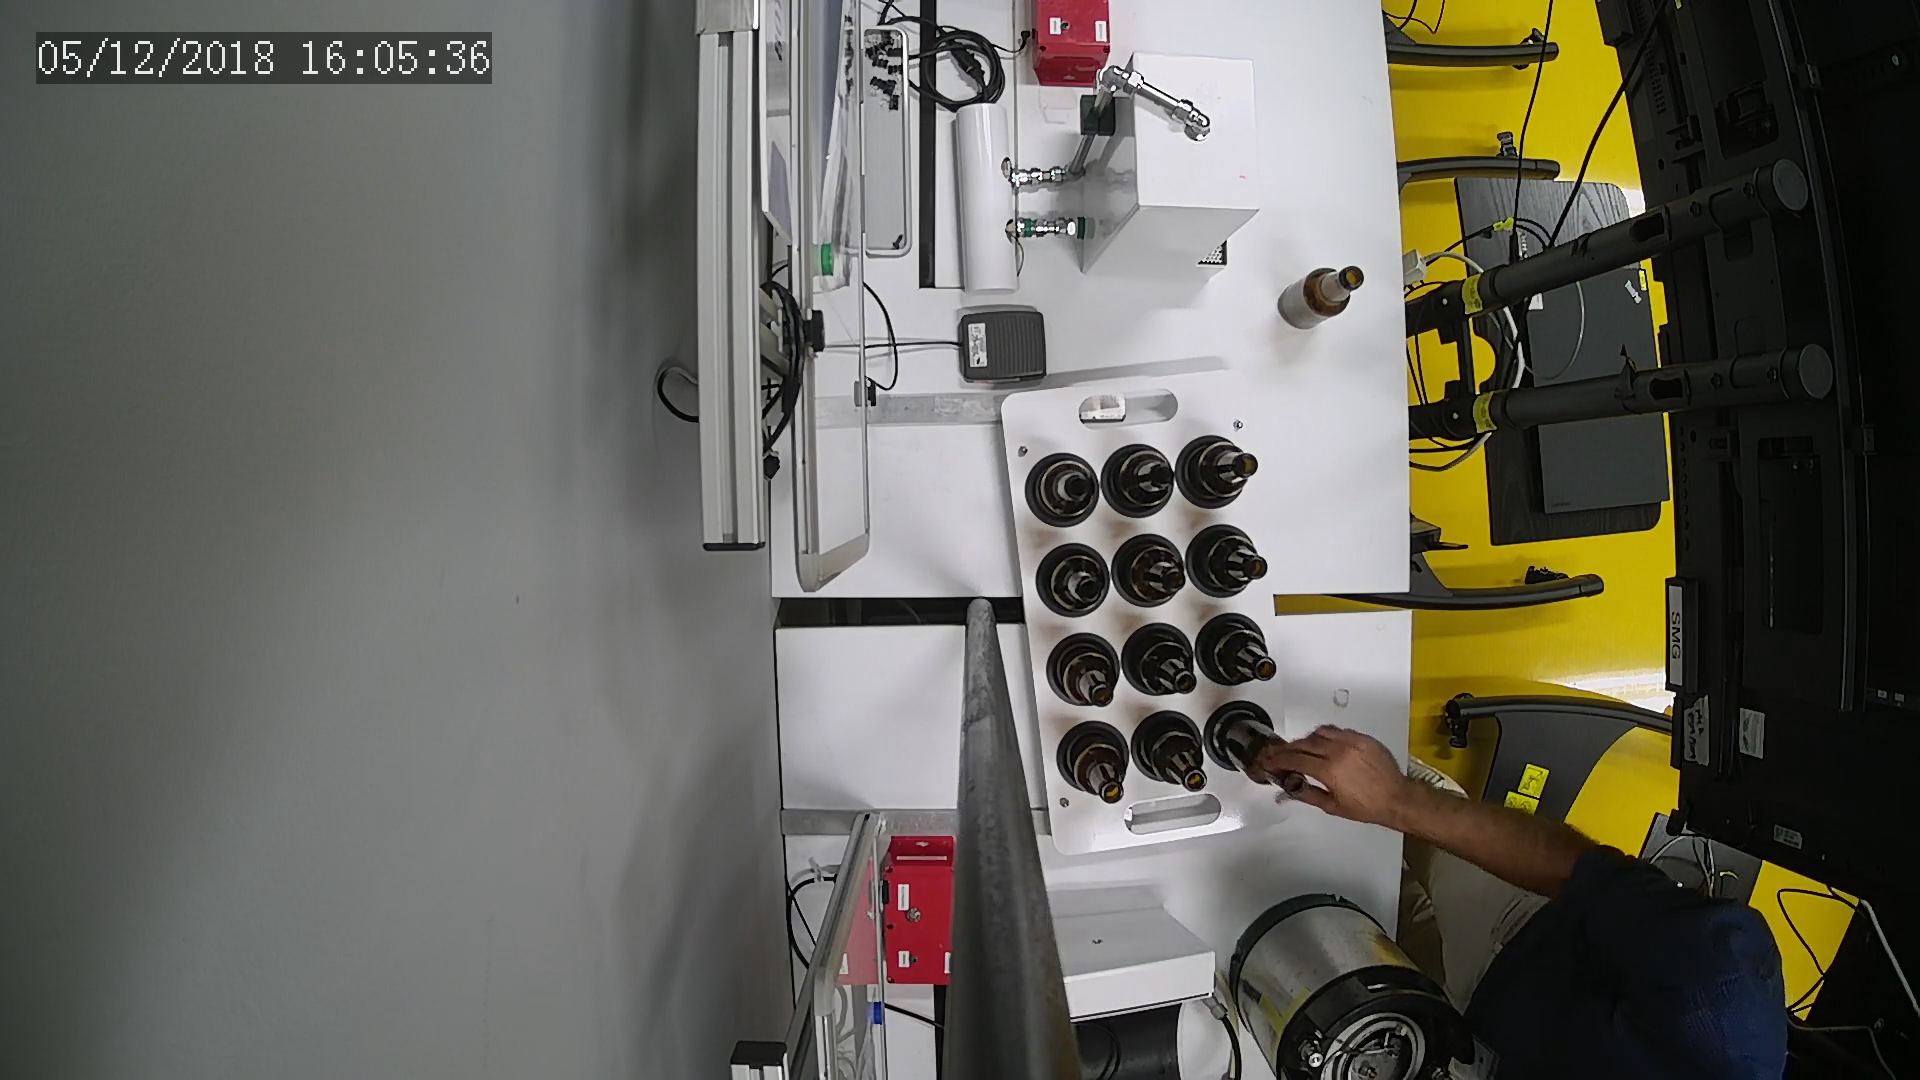filled_bottle: (1193, 603, 1283, 695), (1127, 707, 1215, 799), (1054, 717, 1135, 815), (1174, 426, 1262, 516), (1116, 620, 1204, 707), (1185, 518, 1274, 601), (1029, 541, 1116, 620), (1114, 531, 1189, 616), (1025, 458, 1102, 535), (1040, 632, 1118, 707), (1104, 440, 1178, 520)
trolley: (1001, 368, 1313, 855)
unfilled_bottle: (1278, 261, 1370, 334)
